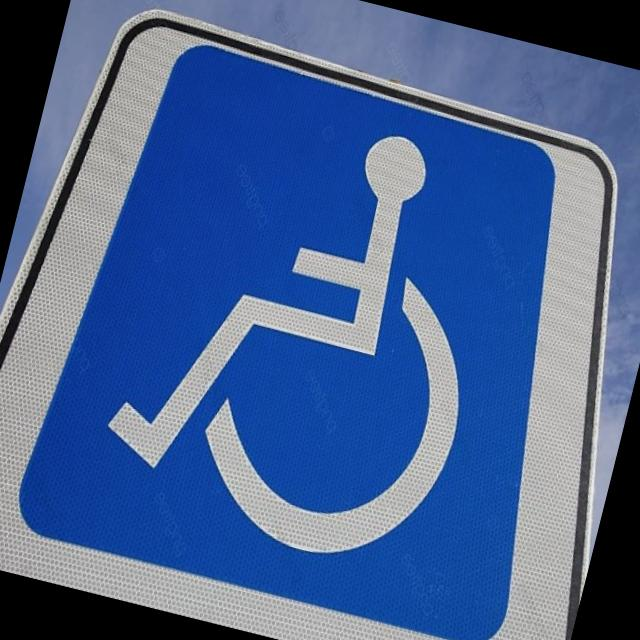symbol_of_access: (36, 50, 566, 624)
